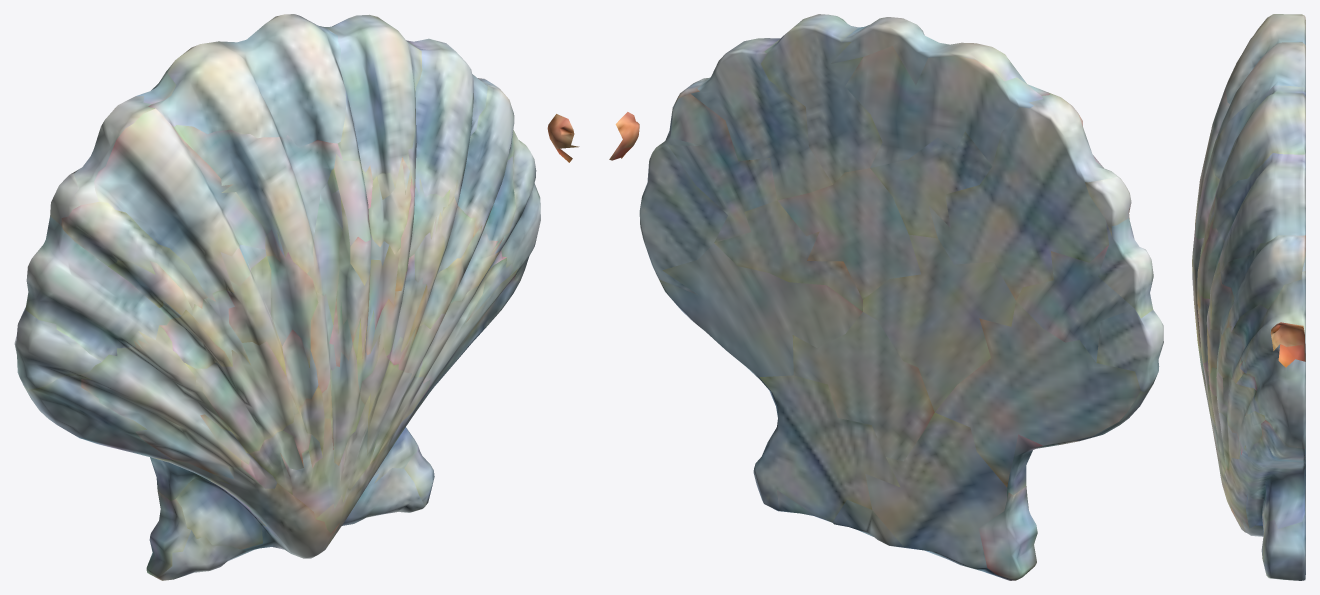
3 renders of one model, left to right at view 1: azimuth 30°, elevation 25°; view 2: azimuth 150°, elevation 25°; view 3: azimuth 270°, elevation 25°, orthographic. The views are drawn at different scales.
Bounding box in the file's own units: 0.9516 × 0.8756 × 0.1827.
Materials: 1 (1 with a texture image).
